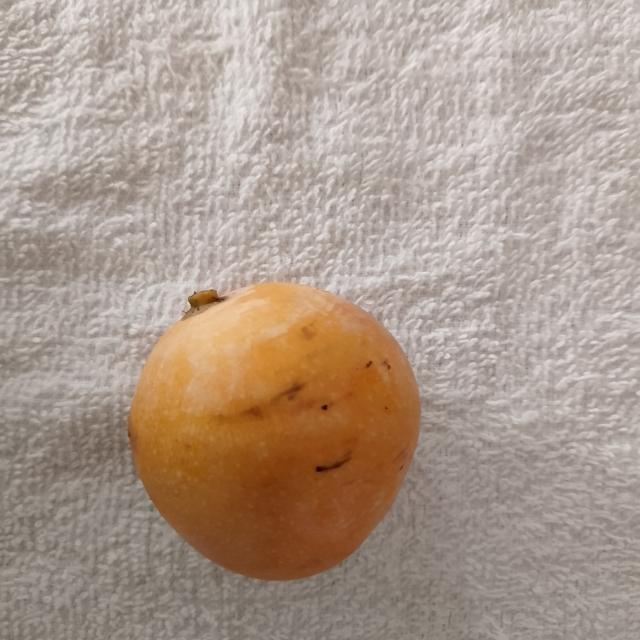mango: (126, 281, 432, 585)
